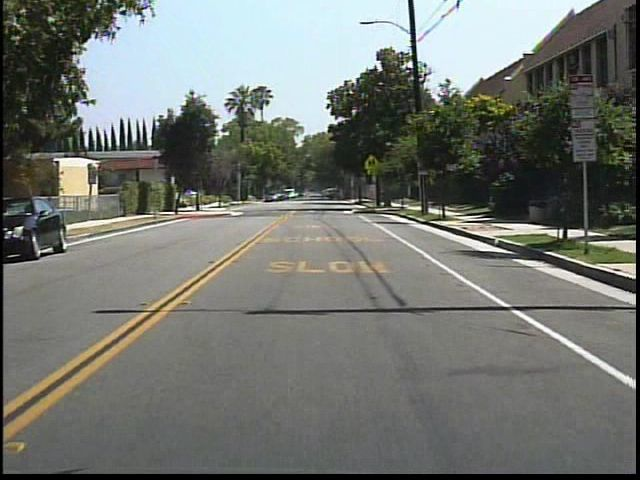person: (316, 187, 331, 205)
